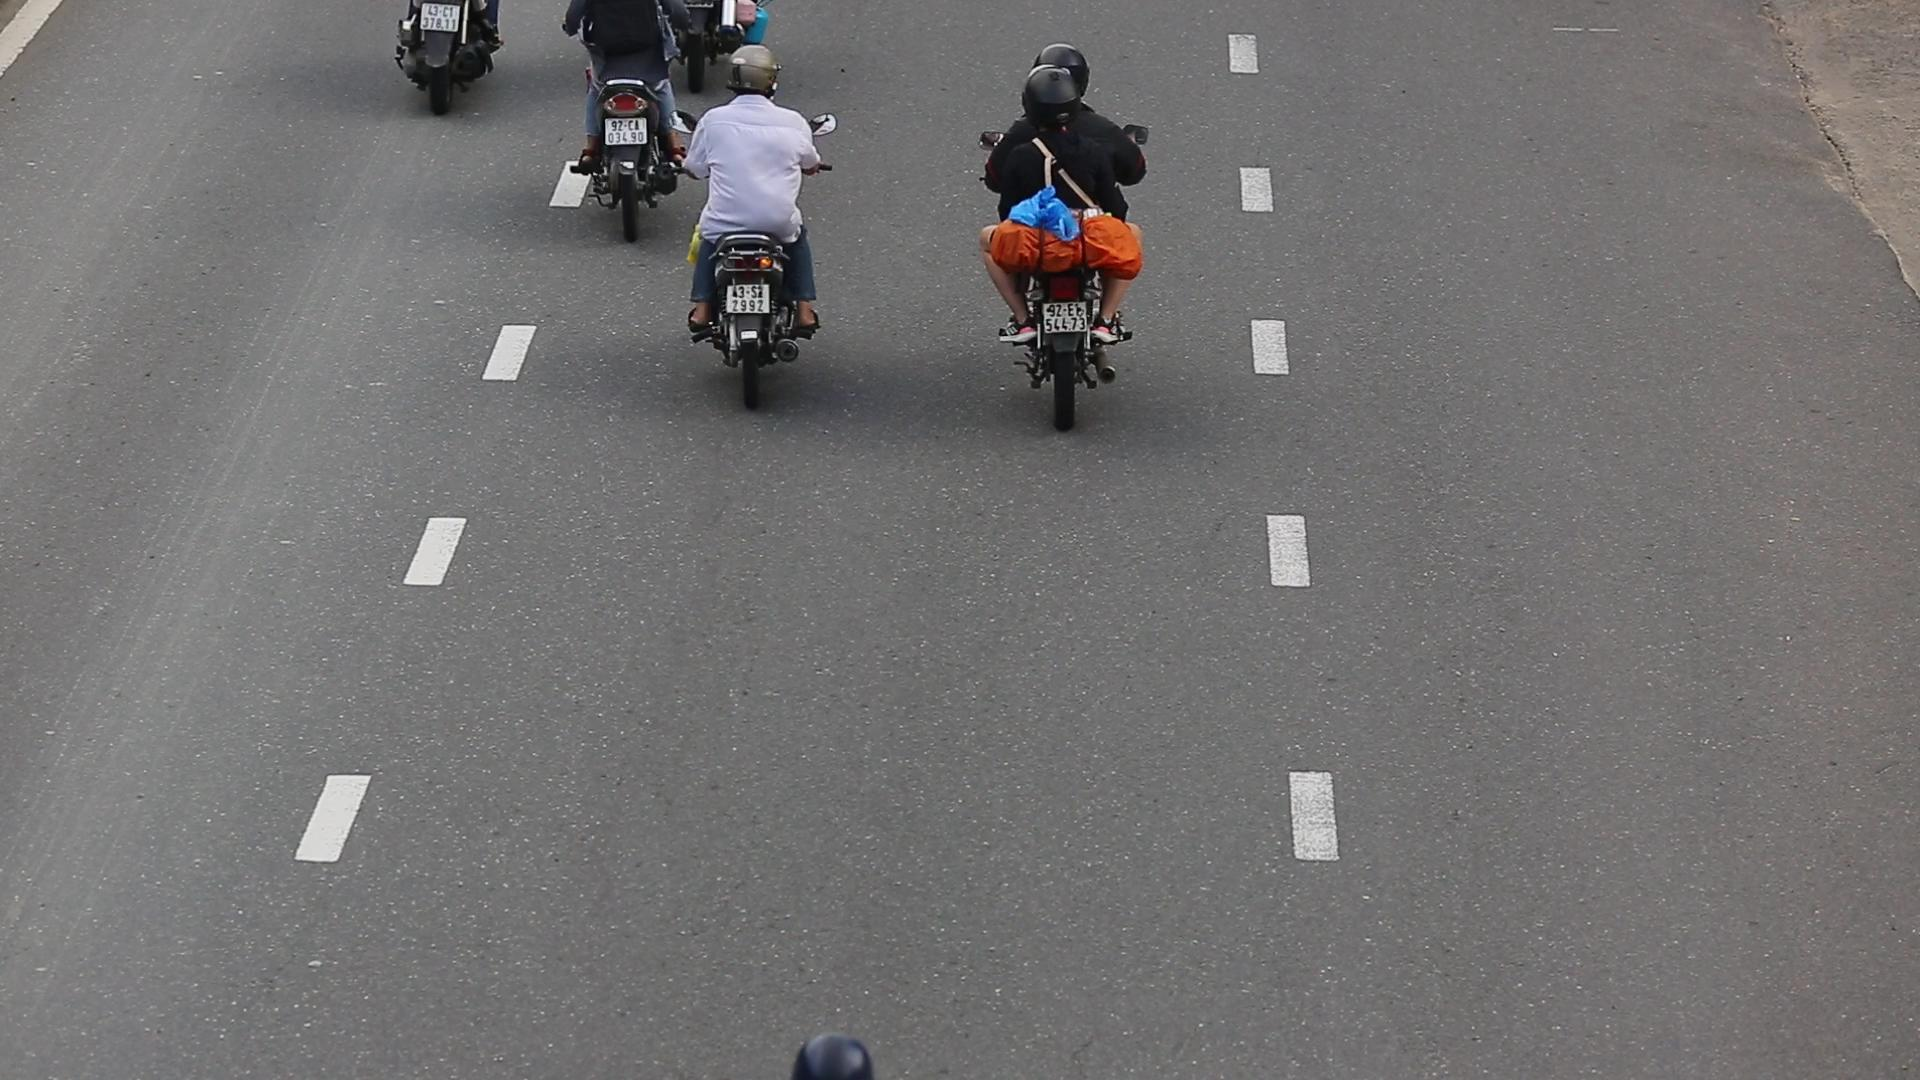motobike: (972, 44, 1156, 444), (676, 32, 856, 405)
